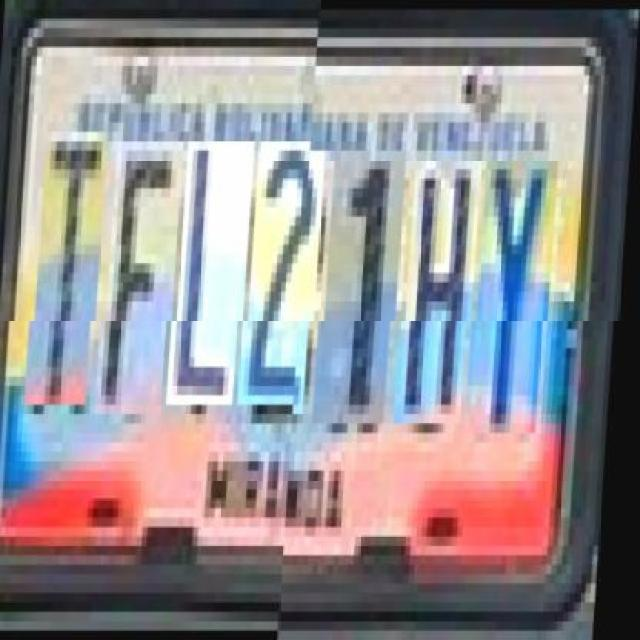1: (324, 150, 408, 424)
2: (247, 150, 327, 415)
f: (104, 150, 184, 424)
h: (404, 160, 484, 425)
l: (176, 150, 256, 415)
t: (35, 140, 110, 414)
y: (475, 159, 560, 433)
